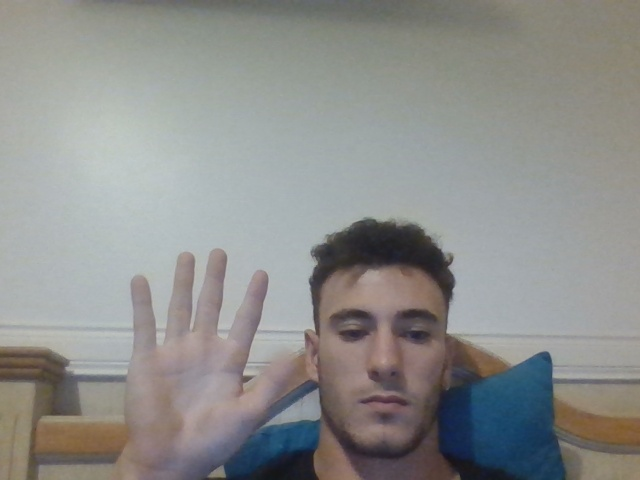Play: (125, 247, 298, 468)
